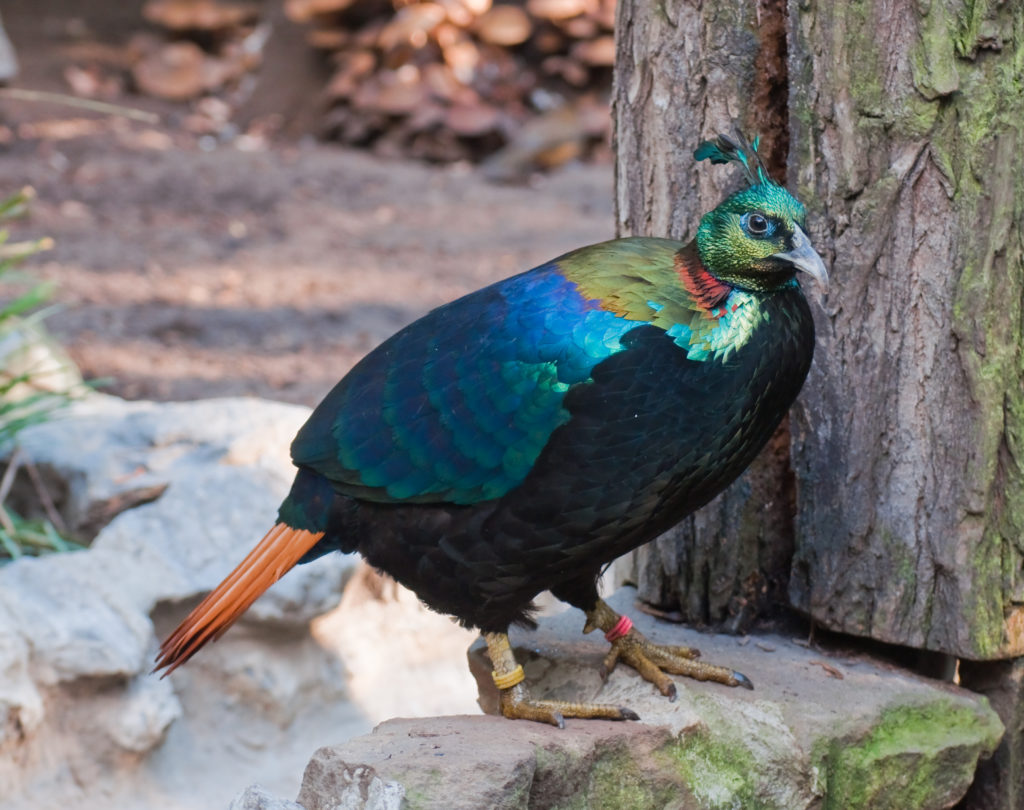bird: (149, 105, 872, 730)
